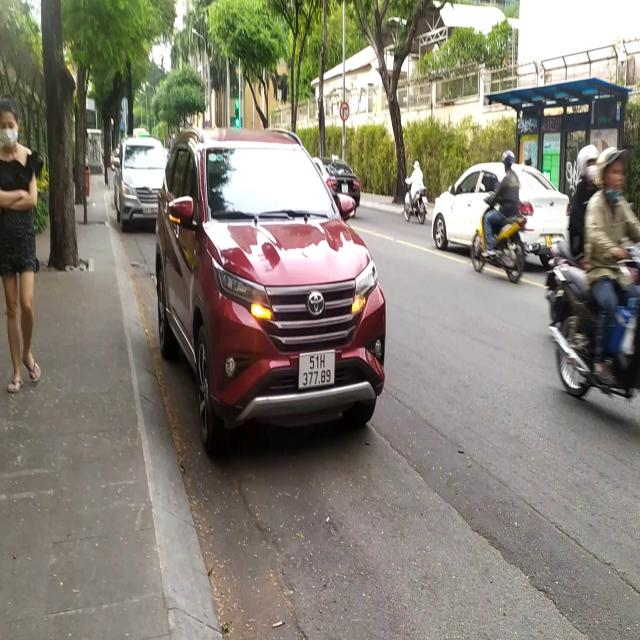bien_trang: (296, 349, 338, 393)
